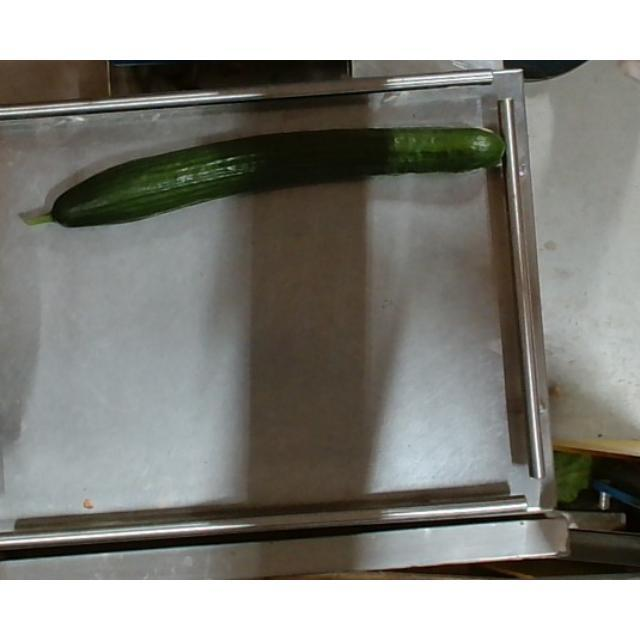cucumber: (24, 126, 506, 228)
